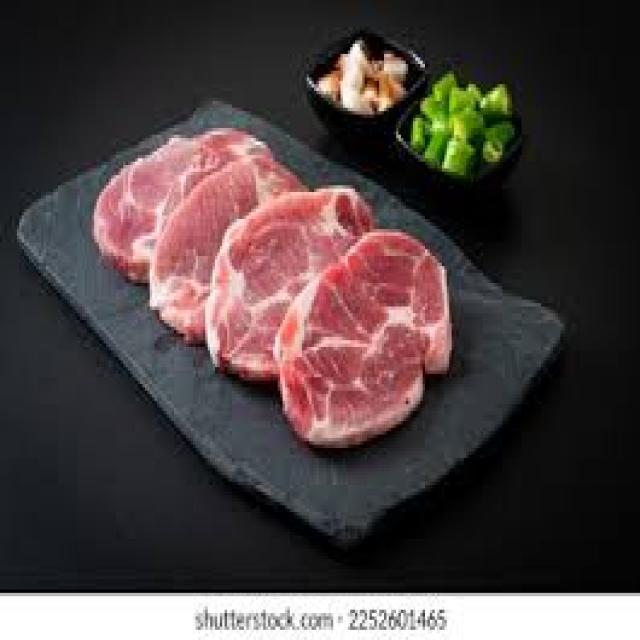Pork: (98, 129, 449, 447), (278, 234, 449, 447), (205, 190, 374, 381), (94, 129, 294, 282), (150, 153, 301, 343)
